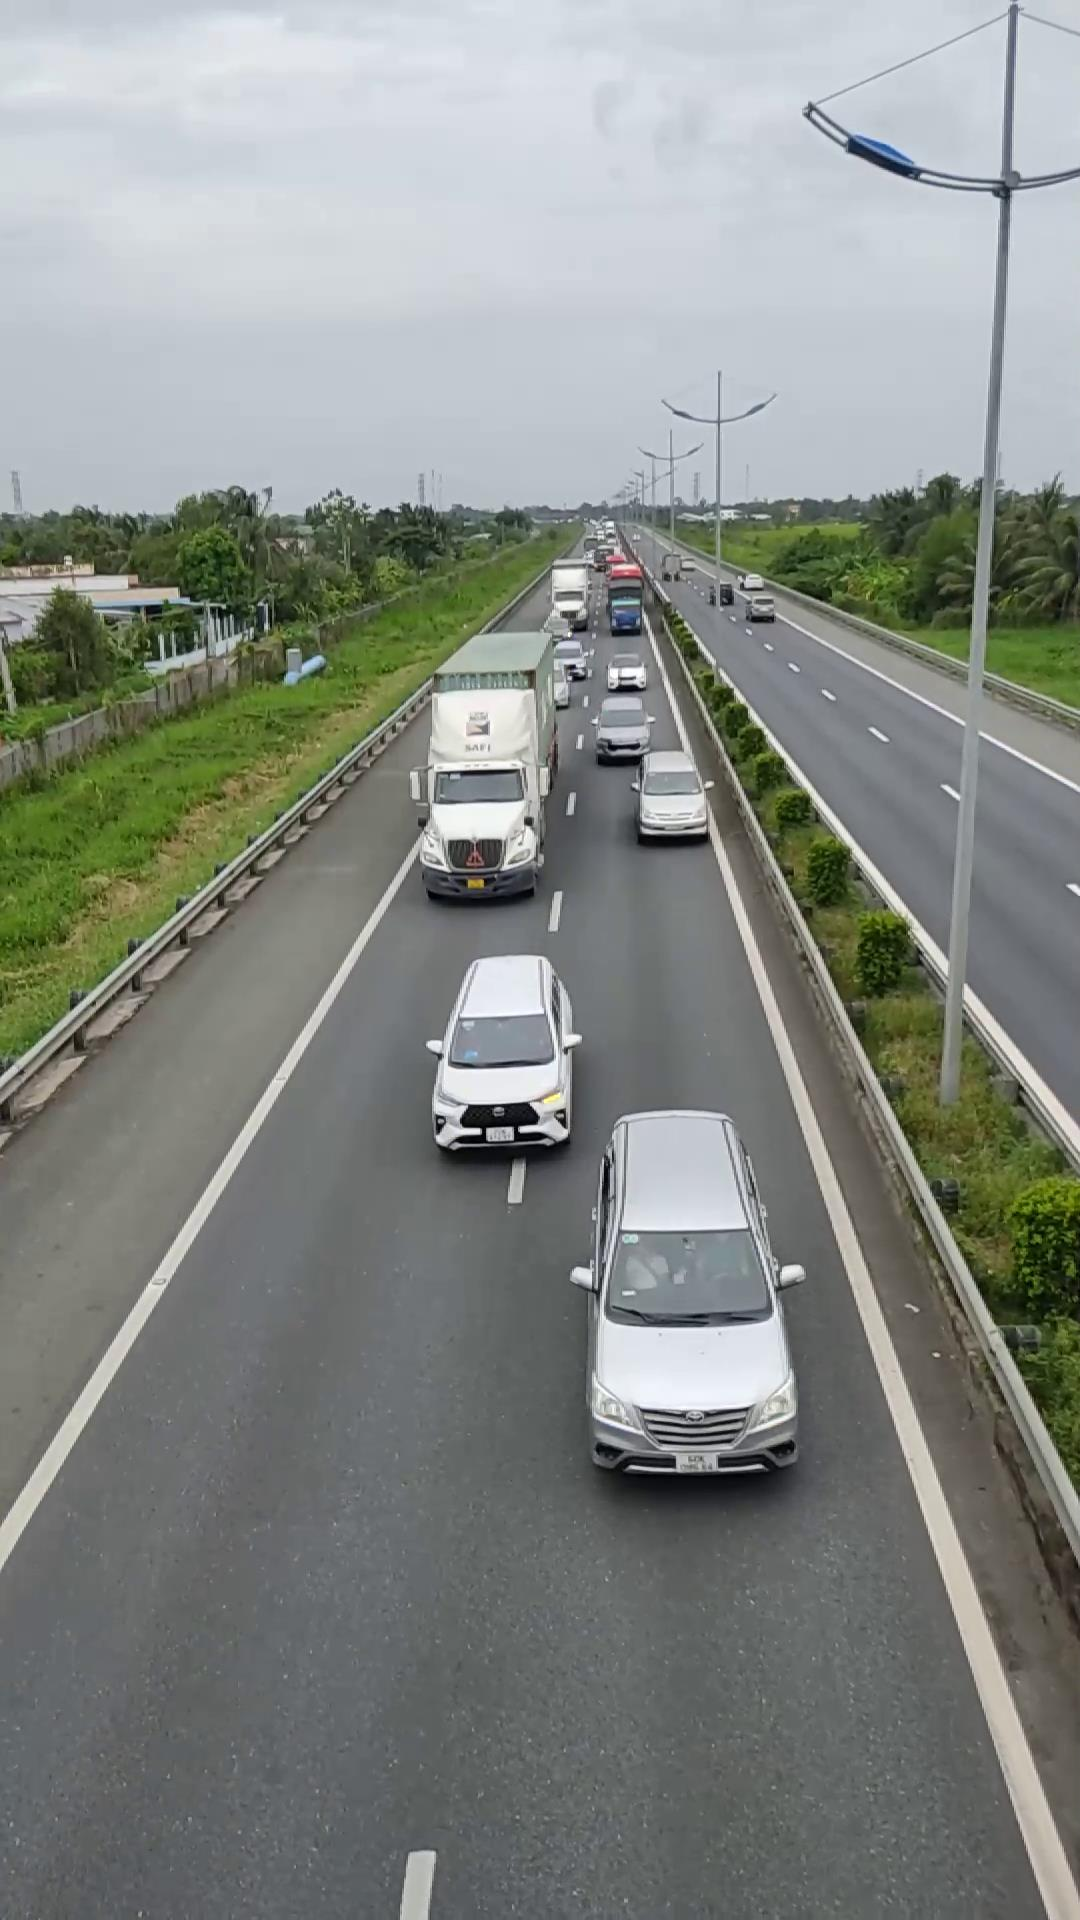car: (574, 1106, 804, 1478), (425, 951, 582, 1155), (630, 750, 712, 843)
container: (415, 628, 560, 901)
